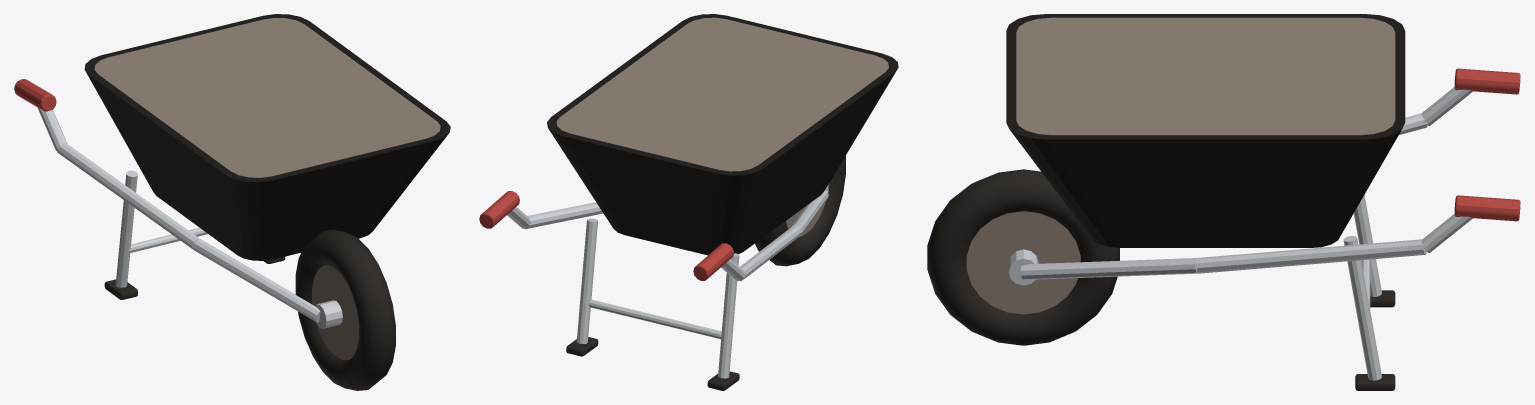
File: hh_cat_wheelbarrow_v.glb
3 views of the same model, side by side, from view 1: azimuth 30°, elevation 25°; view 2: azimuth 150°, elevation 25°; view 3: azimuth 270°, elevation 25° (orthographic). The views are drawn at different scales.
Visible parts, largest first — view 1: tub_inside, tub, tyre, wheel_rim, frame.001, frame, leg, grip, hub, frame.002, leg_brace, leg_foot; view 2: tub_inside, tub, tyre, leg.001, leg, leg_brace, frame.004, frame.001, grip, grip.001, frame, leg_foot (+1 smaller); view 3: tub_inside, tub, tyre, wheel_rim, frame.004, frame.003, leg.001, grip.001, grip, leg, frame.005, frame.002 (+2 smaller).
Boxes of the visible parts, bbox=[...] form: tub_inside: bbox=[94, 18, 440, 177]; tub: bbox=[84, 14, 450, 260]; tyre: bbox=[295, 230, 395, 390]; wheel_rim: bbox=[312, 265, 358, 360]; frame.001: bbox=[57, 143, 199, 249]; frame: bbox=[193, 238, 320, 322]; leg: bbox=[115, 170, 137, 287]; grip: bbox=[14, 79, 56, 111]; hub: bbox=[315, 300, 342, 328]; frame.002: bbox=[37, 107, 67, 150]; leg_brace: bbox=[128, 227, 207, 252]; leg_foot: bbox=[104, 279, 137, 299]; tub_inside: bbox=[556, 17, 888, 171]; tub: bbox=[547, 14, 898, 255]; tyre: bbox=[755, 155, 845, 266]; leg.001: bbox=[576, 218, 597, 343]; leg: bbox=[718, 253, 739, 378]; leg_brace: bbox=[588, 299, 721, 339]; frame.004: bbox=[525, 202, 603, 229]; frame.001: bbox=[740, 225, 802, 281]; grip: bbox=[693, 243, 733, 280]; grip.001: bbox=[479, 191, 519, 228]; frame: bbox=[792, 189, 828, 235]; leg_foot: bbox=[707, 371, 739, 390]; tub_inside: bbox=[1016, 17, 1395, 135]; tub: bbox=[1006, 14, 1405, 247]; tyre: bbox=[927, 169, 1119, 345]; wheel_rim: bbox=[966, 211, 1080, 314]; frame.004: bbox=[1196, 239, 1426, 273]; frame.003: bbox=[1020, 258, 1198, 279]; leg.001: bbox=[1343, 235, 1381, 380]; grip.001: bbox=[1454, 195, 1520, 221]; grip: bbox=[1454, 68, 1520, 94]; leg: bbox=[1353, 195, 1381, 296]; frame.005: bbox=[1421, 214, 1472, 252]; frame.002: bbox=[1421, 87, 1472, 126].
Bounding box in the file's own units: 0.65 × 0.6 × 1.2.
